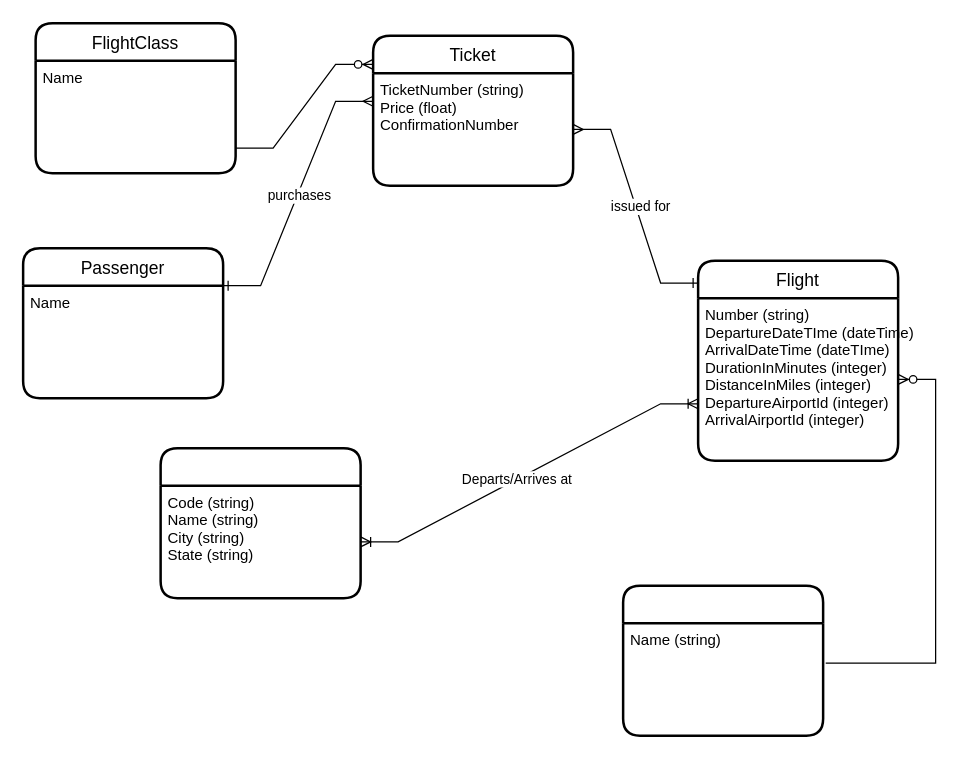
Image size: 968x758. Some labels were removed from this diagram. Here are the shapes that lost their labels. From the top down, the box of each, then its label:
(159, 446, 361, 599): Airport
(621, 584, 824, 736): Arline
